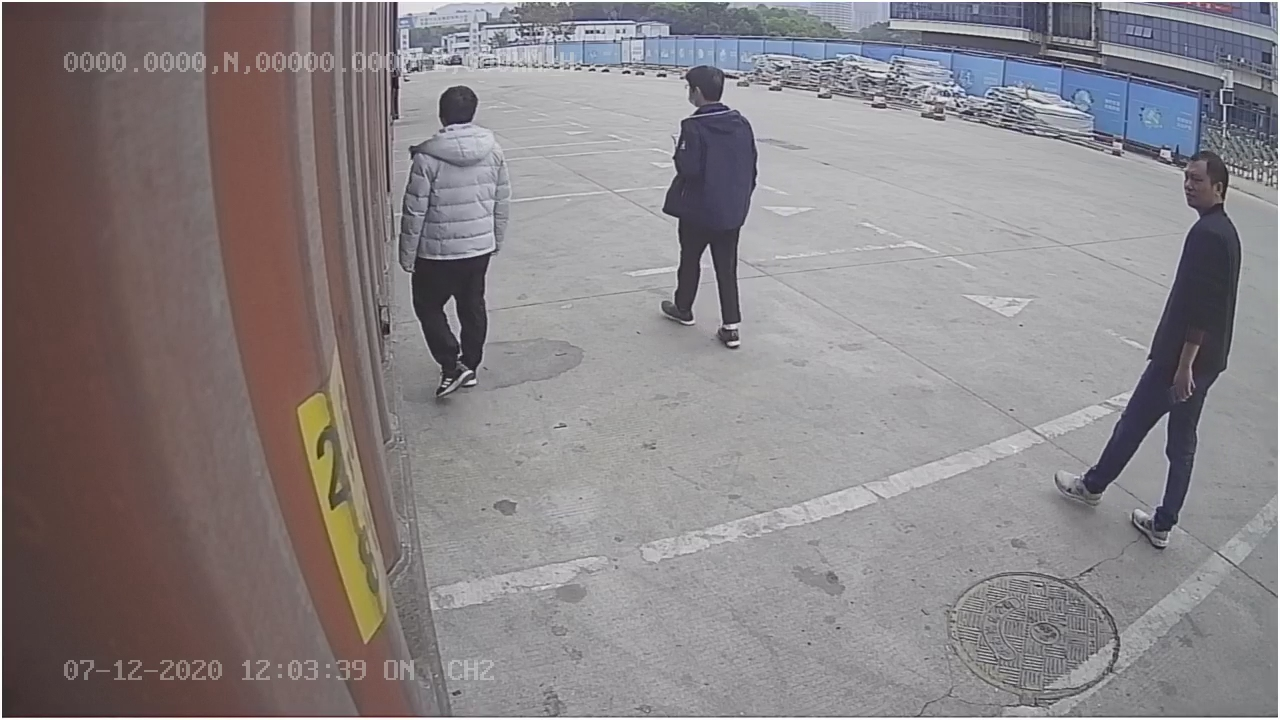person: (1051, 142, 1247, 548), (400, 78, 515, 401), (646, 57, 762, 350)
